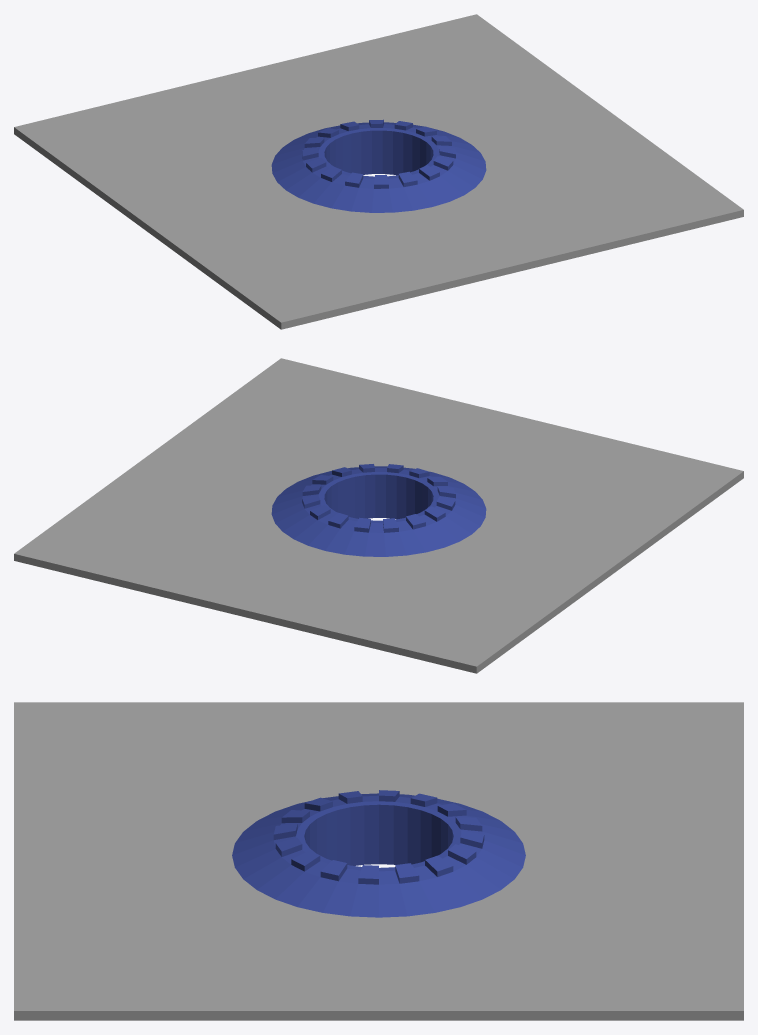
The model's file is WallSide.obj.
3 views of the same model, one above another, from view 1: azimuth 30°, elevation 25°; view 2: azimuth 150°, elevation 25°; view 3: azimuth 270°, elevation 25° (orthographic). The views are drawn at different scales.
Parts seen in each view (by area): view 1: Plane; view 2: Plane; view 3: Plane.
Part boxes in pixels (box(x1,y1,x2,y2)): Plane: box(14, 14, 743, 329); Plane: box(14, 358, 743, 673); Plane: box(14, 702, 743, 1020).
Size of the model in its own units: 2 by 0.1966 by 2.
